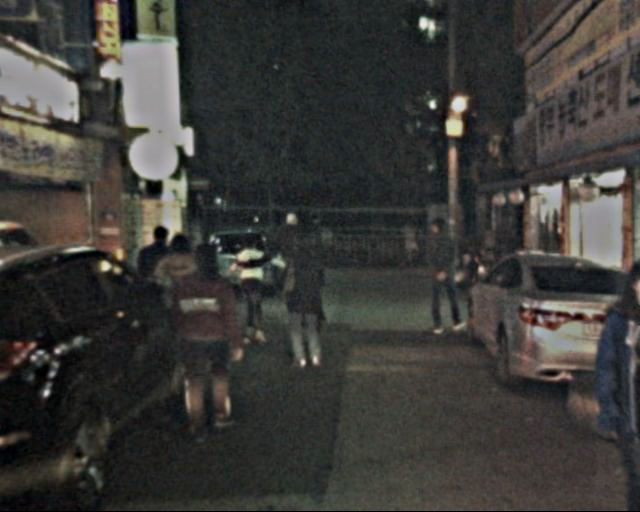person: (166, 242, 249, 434), (276, 231, 332, 376), (154, 233, 206, 359), (416, 219, 465, 338), (230, 234, 278, 350), (136, 225, 182, 339), (268, 206, 310, 310)
